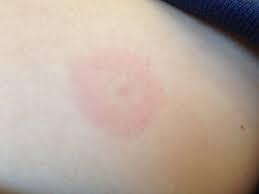Tick: (74, 52, 159, 129)
